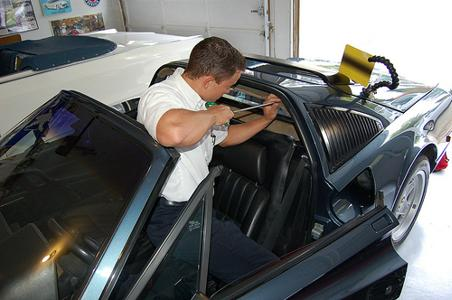person: (136, 35, 284, 294)
